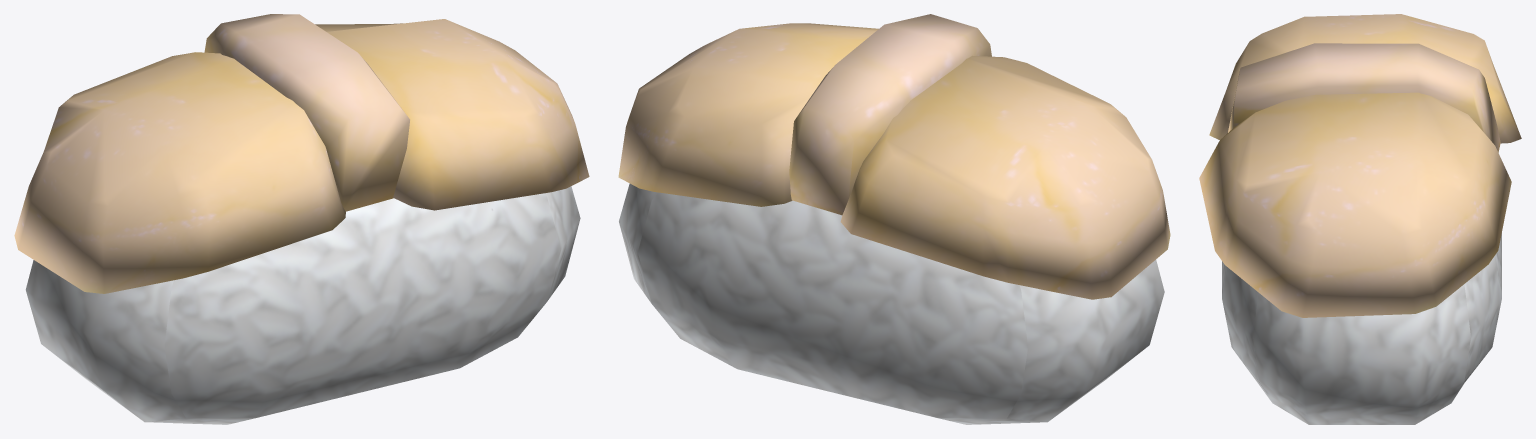
File: scallpos.fbx
The picture shows the model from 3 angles, left to right: view 1: azimuth 30°, elevation 25°; view 2: azimuth 150°, elevation 25°; view 3: azimuth 270°, elevation 25°; orthographic projection. The views are drawn at different scales.
Parts seen in each view (by area): view 1: scallpos; view 2: scallpos; view 3: scallpos.
Boxes of the visible parts, x1,y1,x2,y2 form: scallpos: (14,14,589,424); scallpos: (618,14,1170,424); scallpos: (1199,14,1521,424).
Bounding box in the file's own units: 5.94 × 3.75 × 3.61.
